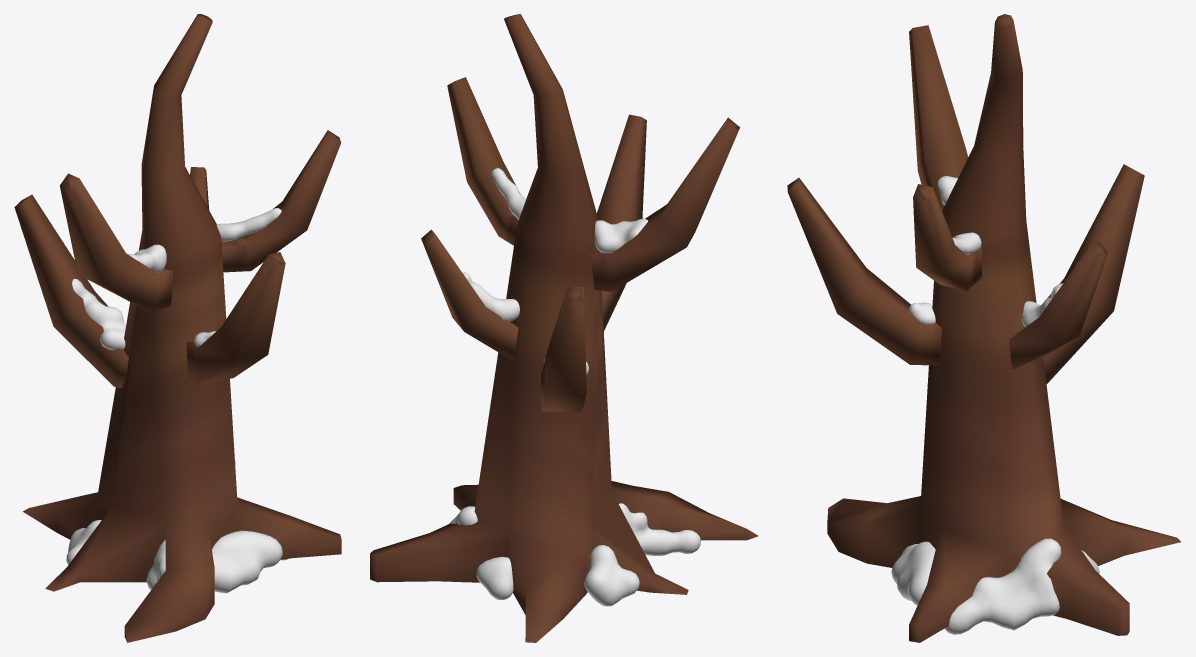
File: winter_oak tree.002.fbx
3 renders of one model, left to right at view 1: azimuth 30°, elevation 25°; view 2: azimuth 150°, elevation 25°; view 3: azimuth 270°, elevation 25°, orthographic. The views are drawn at different scales.
Parts seen in each view (by area): view 1: oak tree.002; view 2: oak tree.002; view 3: oak tree.002.
Part boxes in pixels (x1,y1,x2,y2): oak tree.002: (14,14,341,642); oak tree.002: (370,14,758,642); oak tree.002: (787,14,1180,642).
Size of the model in its own units: 7.62 by 14.04 by 8.54.
